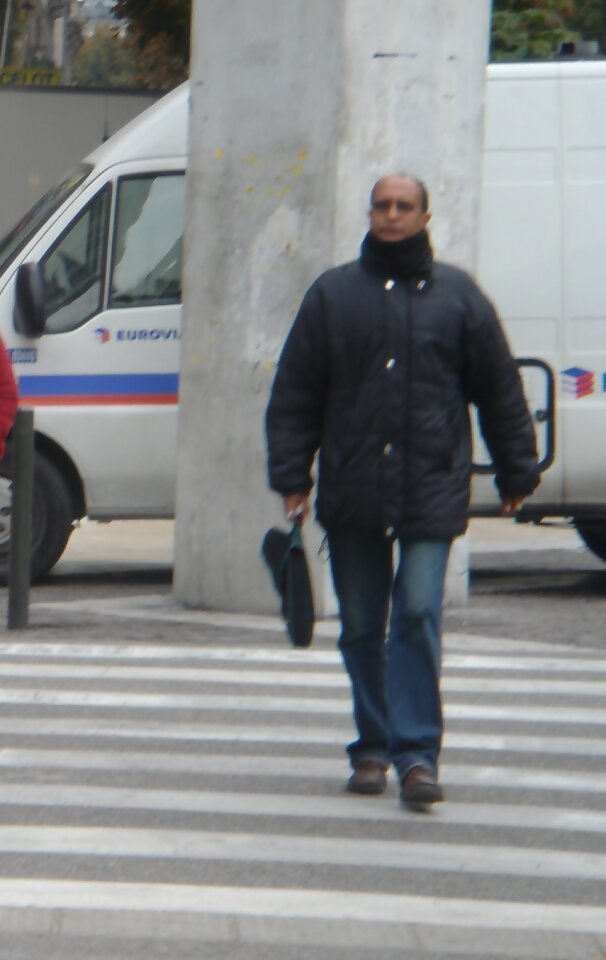person: (266, 154, 544, 810)
